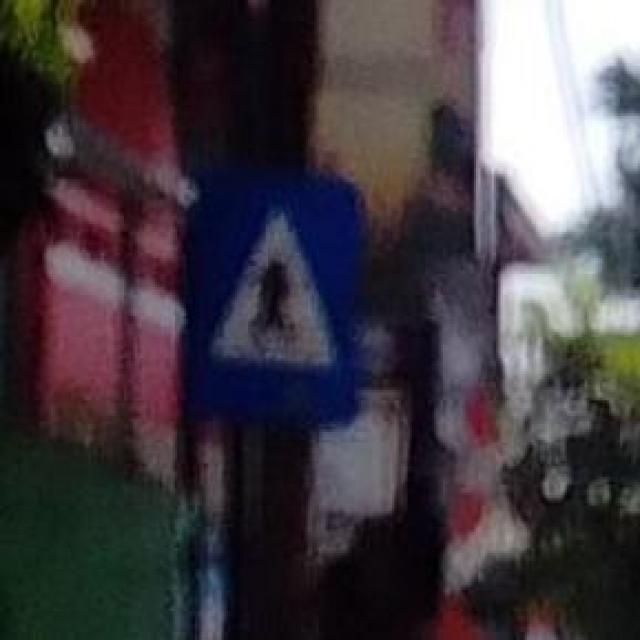traffic sign: (193, 166, 359, 430)
